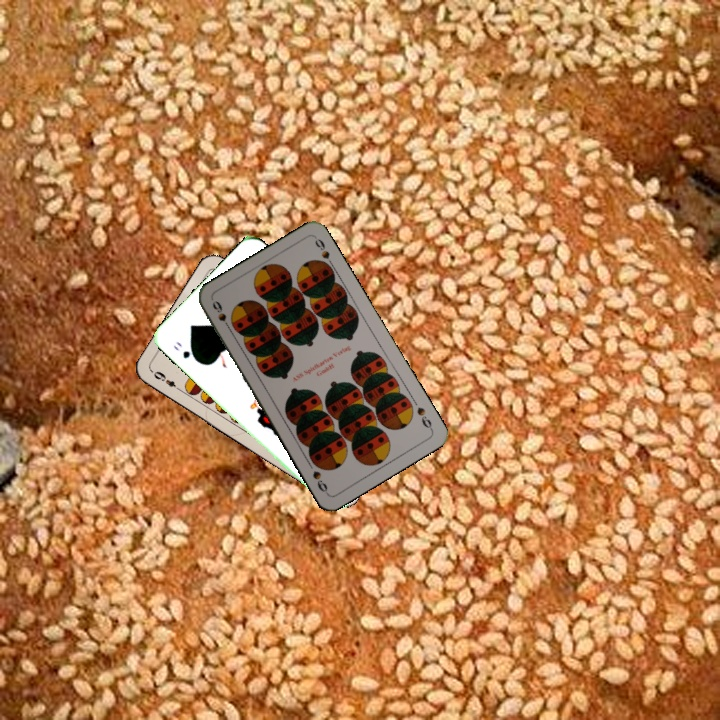E9: (149, 367, 184, 394)
GO: (170, 337, 201, 365)
S9: (208, 297, 234, 334), (413, 403, 435, 433)
